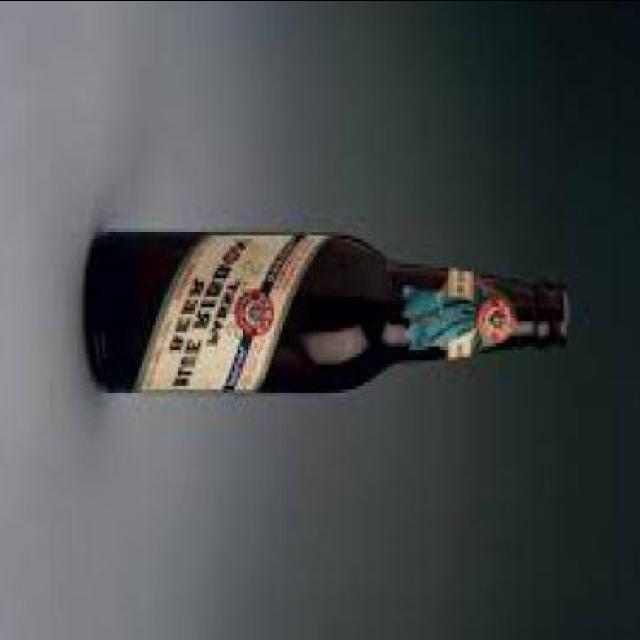kaca: (86, 230, 572, 396)
